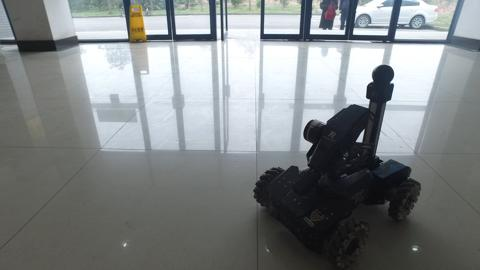car: (331, 1, 440, 29)
chariot: (252, 63, 422, 270)
